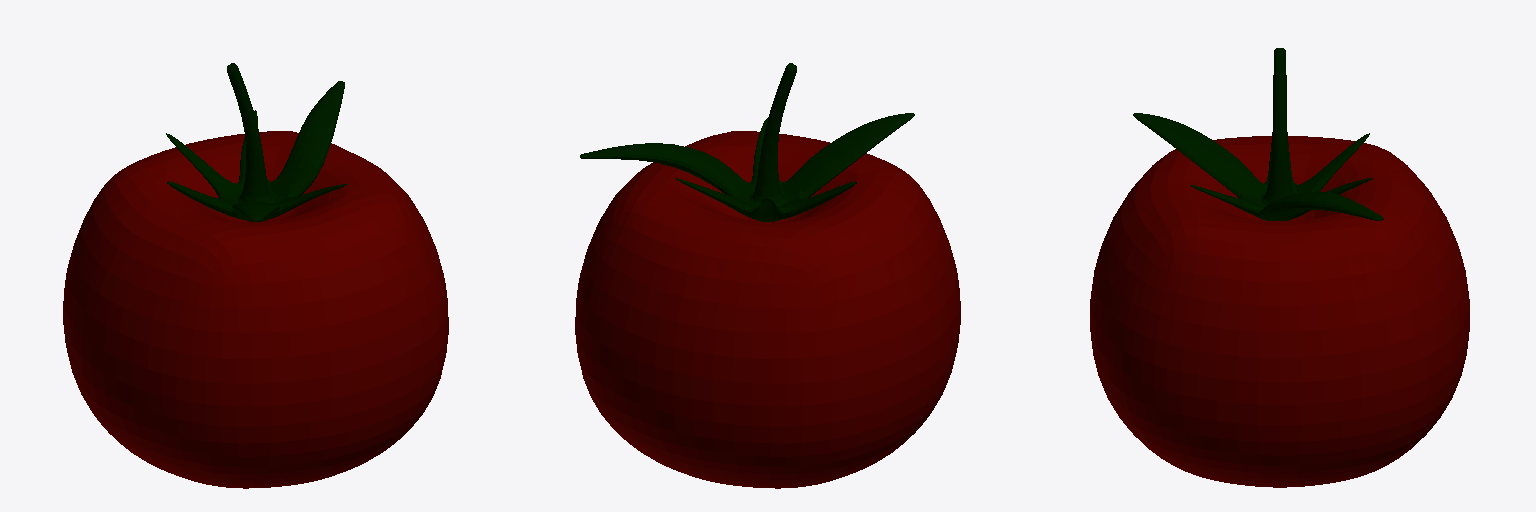
File: Tomato.obj
3 renders of one model, left to right at view 1: azimuth 30°, elevation 25°; view 2: azimuth 150°, elevation 25°; view 3: azimuth 270°, elevation 25°, orthographic.
Parts seen in each view (by area): view 1: Cube, Cylinder; view 2: Cube, Cylinder; view 3: Cube, Cylinder.
Boxes of the visible parts, <box> form: Cube: <box>63,131,448,488</box>; Cylinder: <box>166,63,347,221</box>; Cube: <box>575,131,960,488</box>; Cylinder: <box>580,63,914,221</box>; Cube: <box>1090,136,1469,487</box>; Cylinder: <box>1133,48,1383,220</box>.
Size of the model in its own units: 3.44 by 3.93 by 3.44.